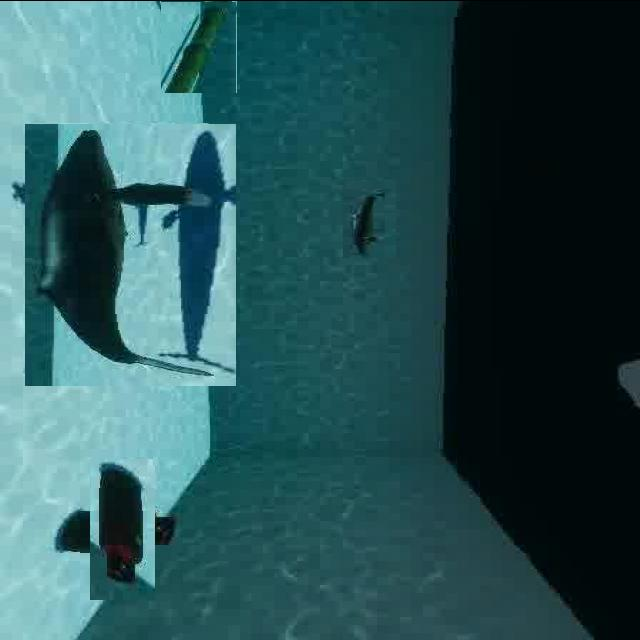Cylinder: (70, 477, 174, 580)
Pipe: (161, 0, 237, 92)
Whale: (25, 122, 237, 385), (343, 178, 397, 257)
